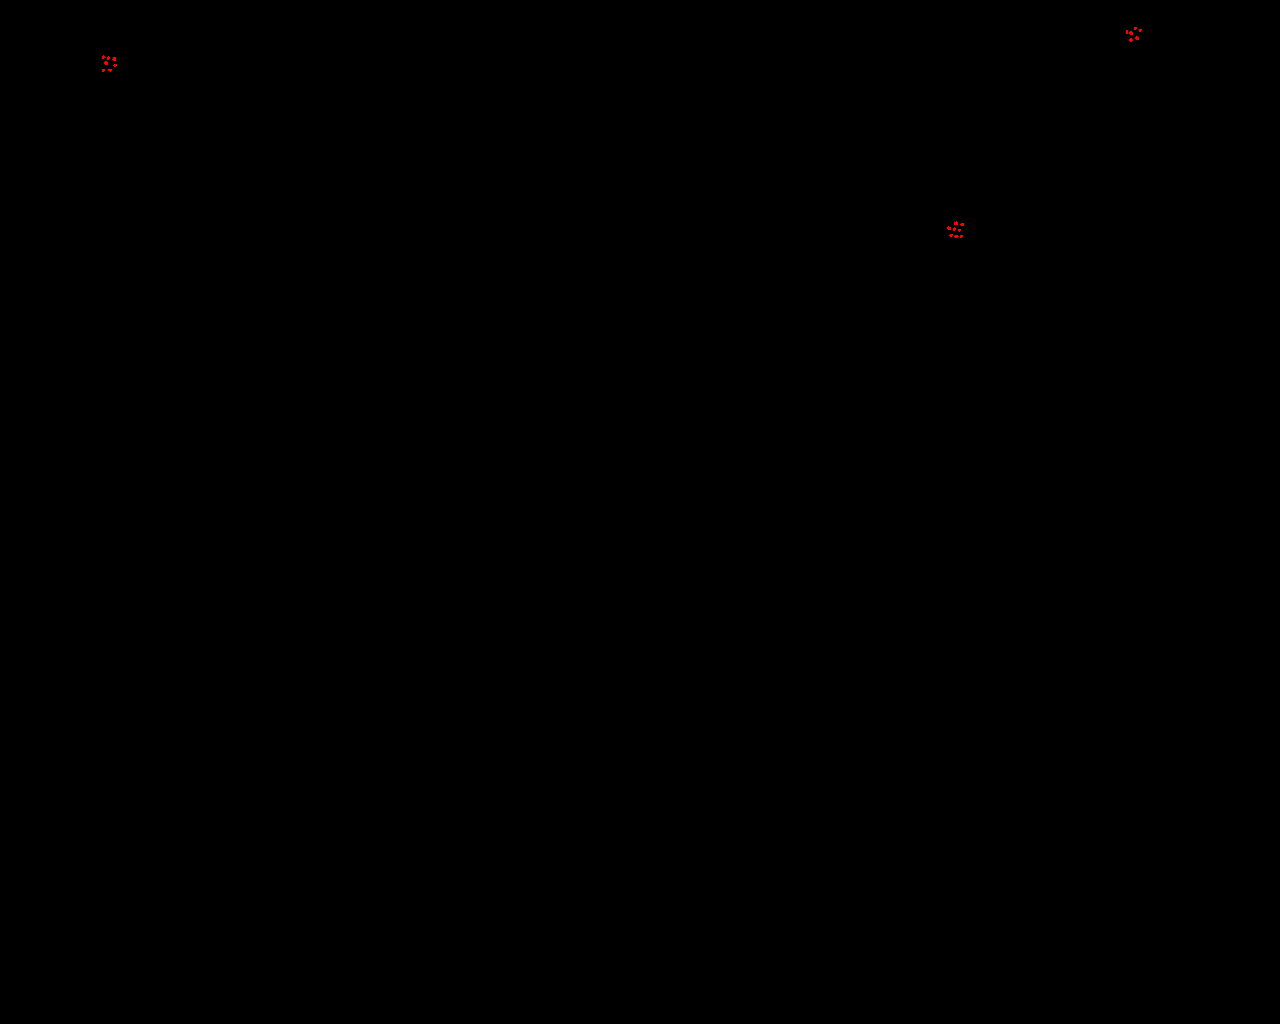Target: (1135, 36, 1139, 40), (1128, 38, 1133, 42), (947, 226, 951, 230), (954, 235, 959, 238), (1128, 31, 1133, 34), (112, 57, 116, 61), (104, 61, 108, 65), (113, 64, 117, 67), (108, 69, 112, 72), (954, 222, 958, 225), (960, 223, 964, 226), (953, 227, 956, 231), (949, 234, 953, 237), (1134, 27, 1137, 30), (1139, 29, 1142, 32), (107, 56, 110, 60), (958, 229, 961, 232), (960, 235, 963, 238), (1126, 30, 1128, 34), (102, 55, 104, 59), (102, 69, 104, 72)
